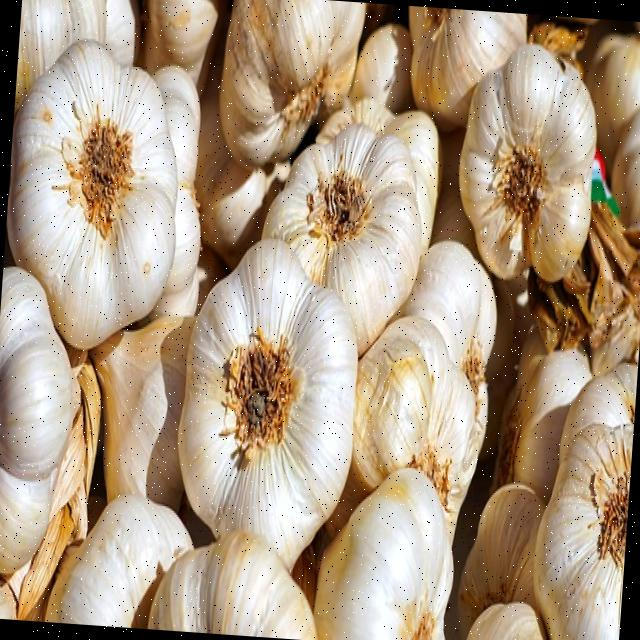garlic: (178, 239, 357, 569), (456, 318, 635, 640), (7, 40, 178, 347), (262, 123, 421, 354), (459, 44, 596, 282), (355, 318, 487, 542), (219, 0, 365, 168), (313, 472, 452, 640), (0, 267, 75, 574), (93, 309, 195, 502), (45, 495, 193, 627), (147, 531, 315, 640), (409, 5, 527, 131)
